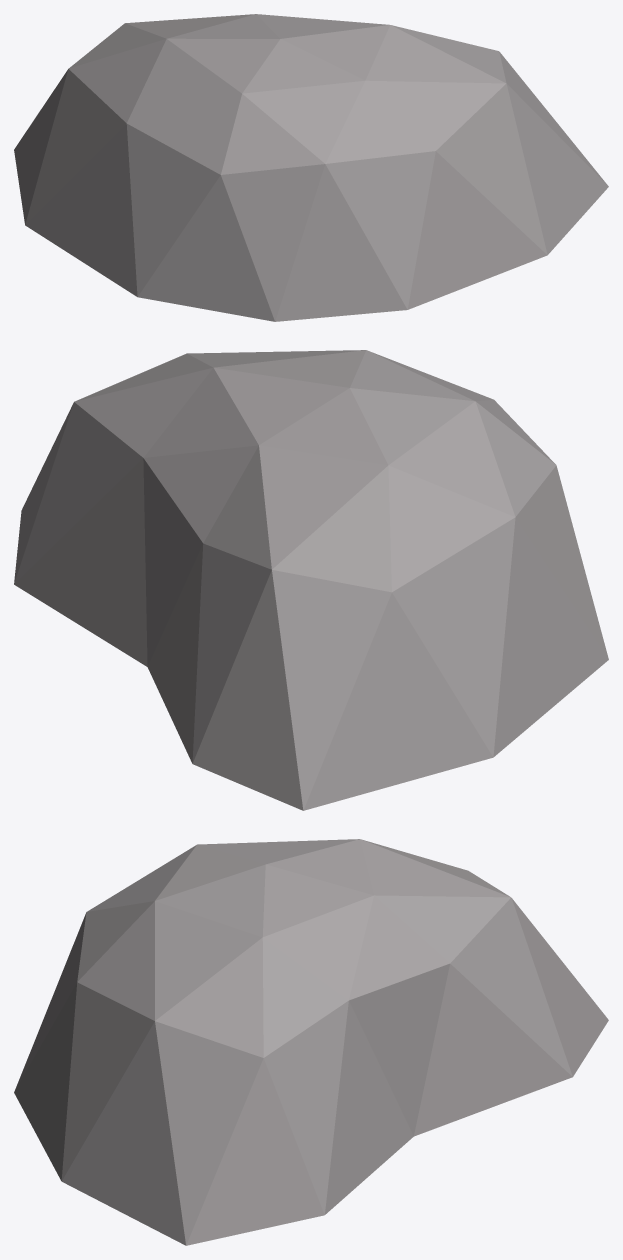
Rendered from Rock_Round_s_01 2.fbx.
3 renders of one model, top to bottom at view 1: azimuth 30°, elevation 25°; view 2: azimuth 150°, elevation 25°; view 3: azimuth 270°, elevation 25°, orthographic. The views are drawn at different scales.
Parts seen in each view (by area): view 1: Rock_Round_s_01; view 2: Rock_Round_s_01; view 3: Rock_Round_s_01.
Part boxes in pixels (x1,y1,x2,y2): Rock_Round_s_01: (14,14,608,321); Rock_Round_s_01: (14,350,608,810); Rock_Round_s_01: (14,839,608,1245).
Bounding box in the file's own units: 57.99 × 22.58 × 55.25.
